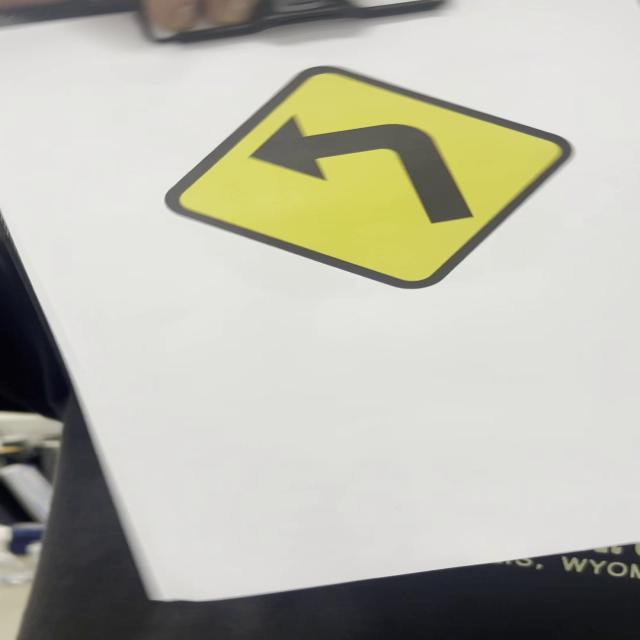left: (163, 67, 582, 290)
